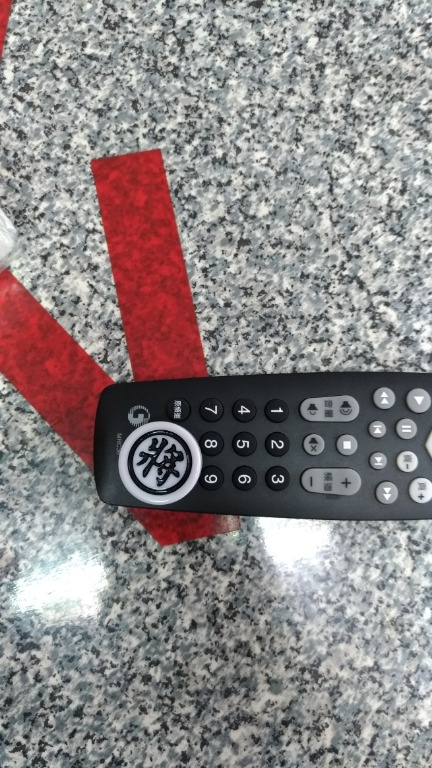b-king: (109, 410, 219, 521)
